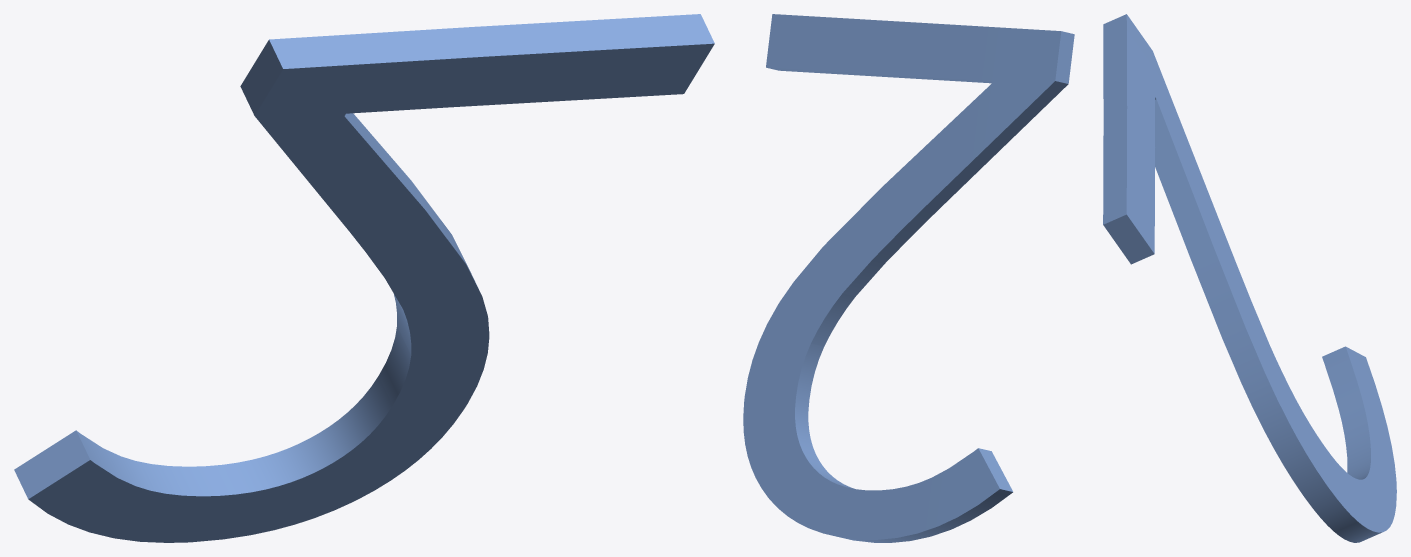
File: New_Number_2.gltf
The picture shows the model from 3 angles, left to right: view 1: azimuth 30°, elevation 25°; view 2: azimuth 150°, elevation 25°; view 3: azimuth 270°, elevation 25°; orthographic projection. The views are drawn at different scales.
Visible parts, largest first — view 1: Part 569; view 2: Part 569; view 3: Part 569.
Boxes of the visible parts, x1=… form: Part 569: x1=14, y1=14, x2=714, y2=542; Part 569: x1=743, y1=14, x2=1074, y2=542; Part 569: x1=1103, y1=14, x2=1396, y2=542.
Size of the model in its own units: 0.0039 by 0.00479 by 0.00278.
